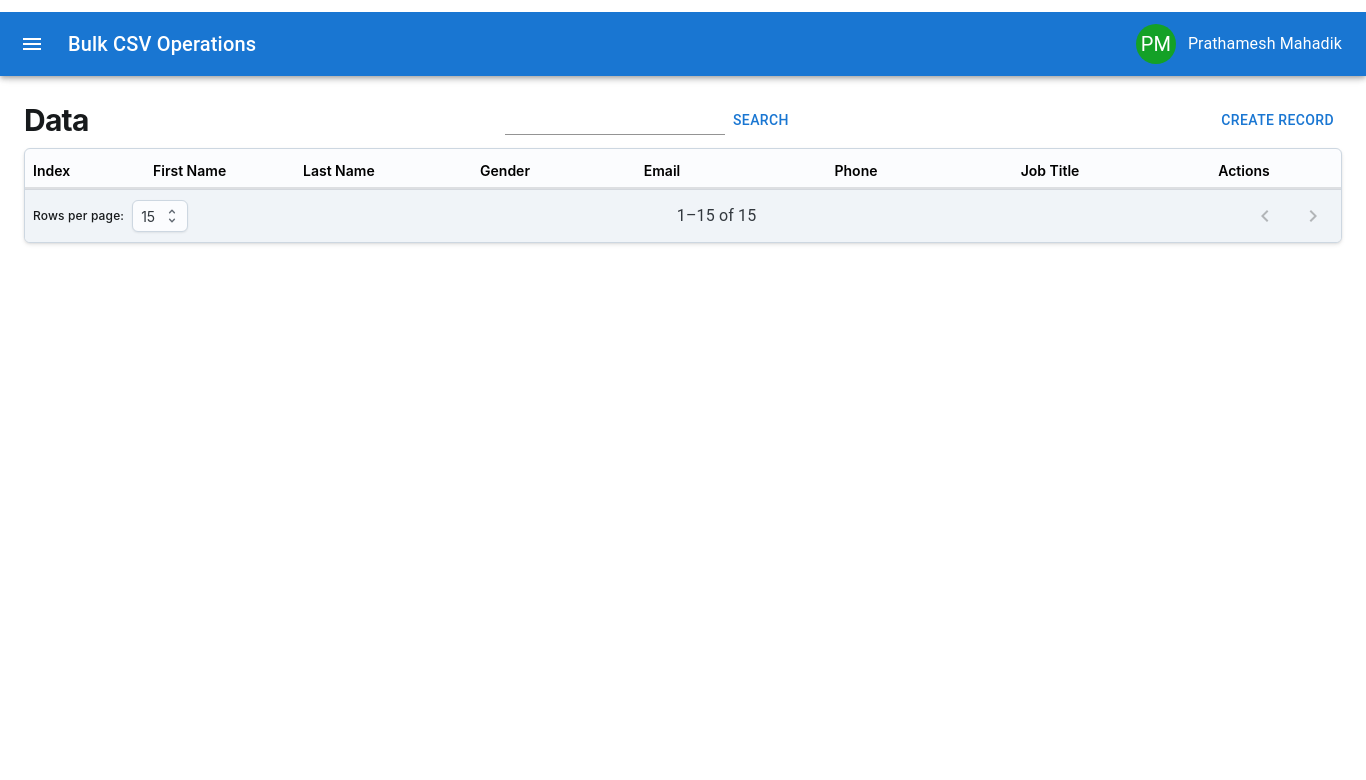
Header Component › opens and closes drawer
Click the button named "open drawer" at (32, 44), box [12,24,52,64]
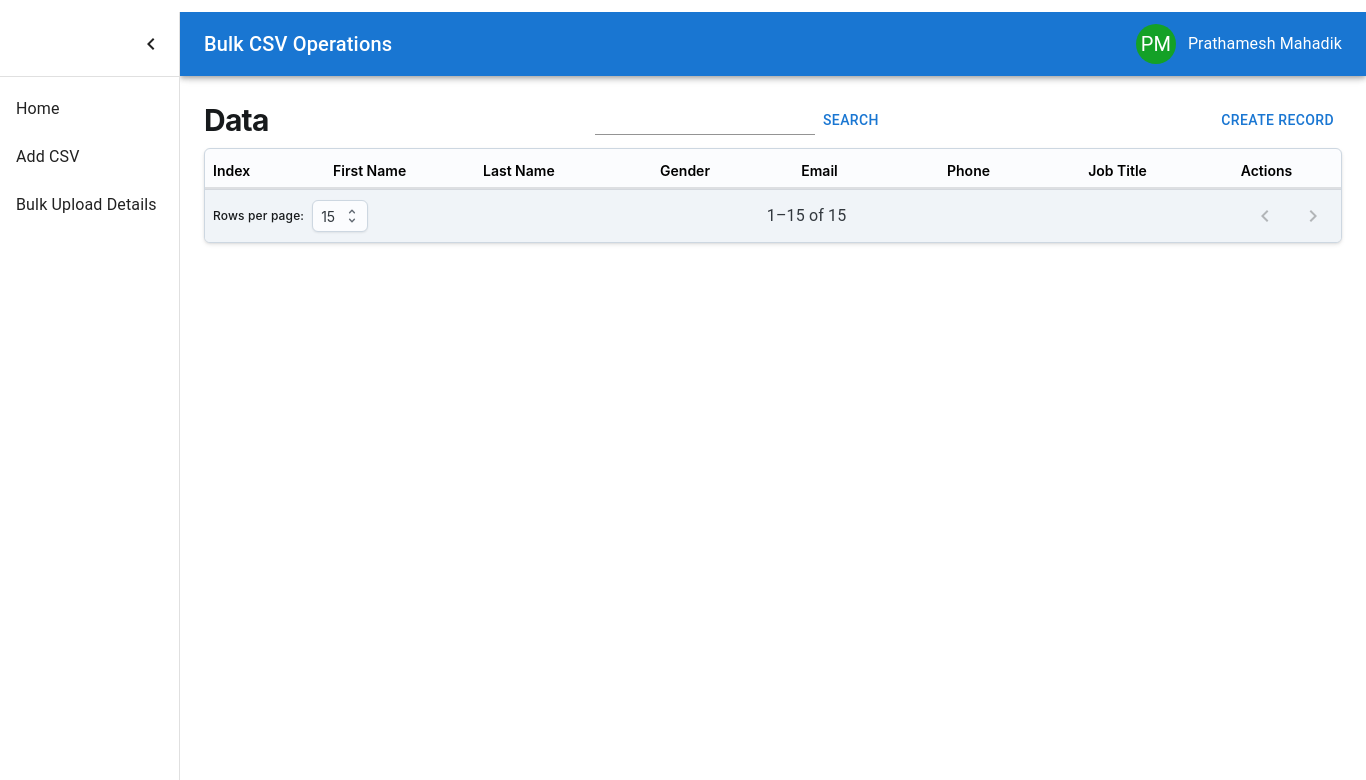
Check: the text "Home" is shown, box [16,99,60,118]
Click the button named "close drawer" at (151, 44), box [131,24,171,64]
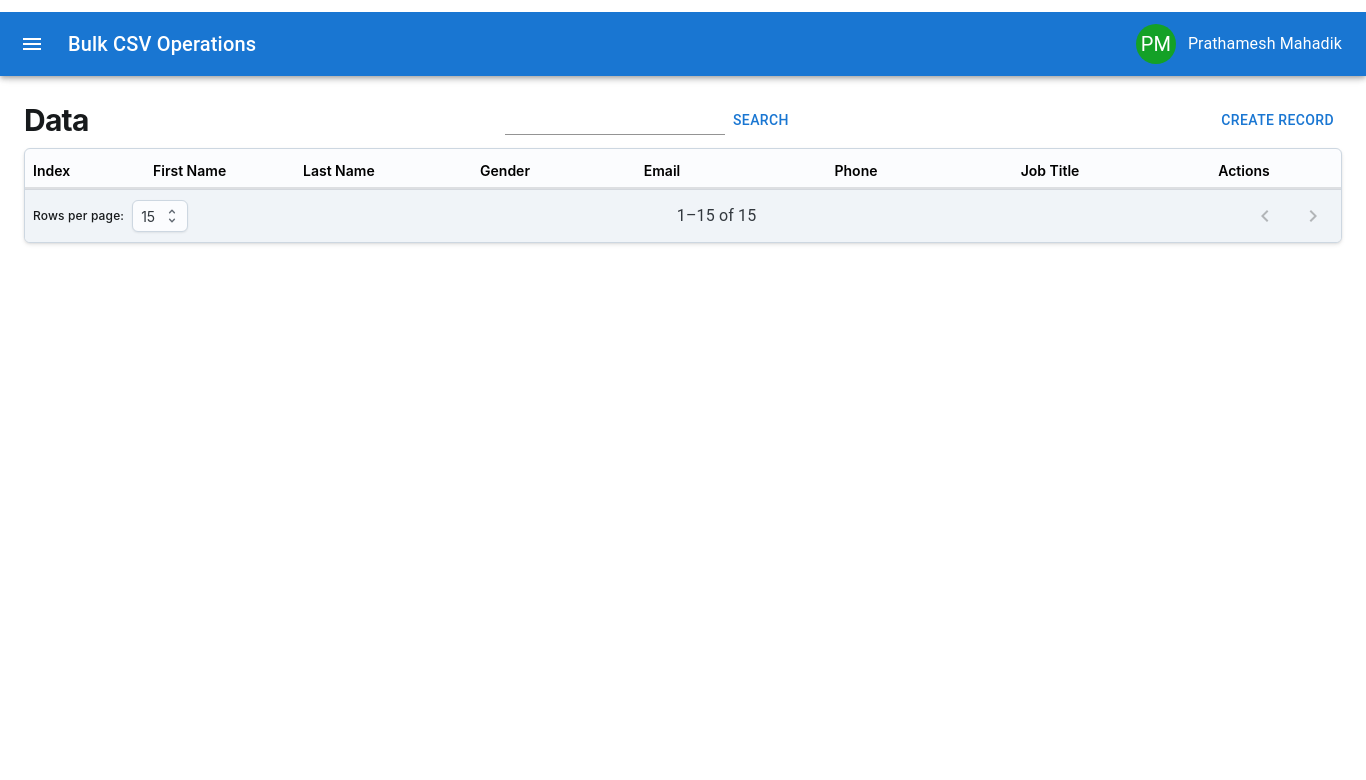
Check: the button "Add CSV" is gone
